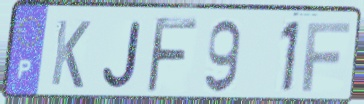1: (278, 18, 304, 96)
9: (203, 17, 243, 95)
F: (143, 14, 200, 96), (299, 20, 353, 94)
J: (100, 18, 145, 91)
K: (48, 16, 93, 91)
